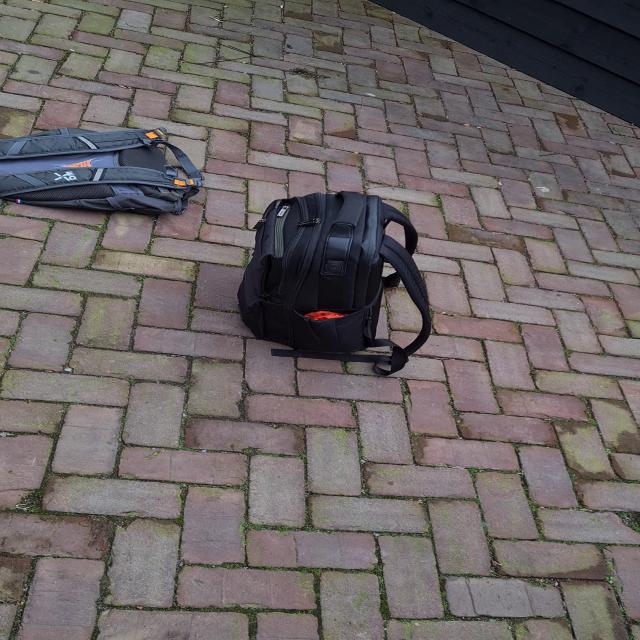backpack: (225, 184, 427, 356), (0, 122, 214, 217)
